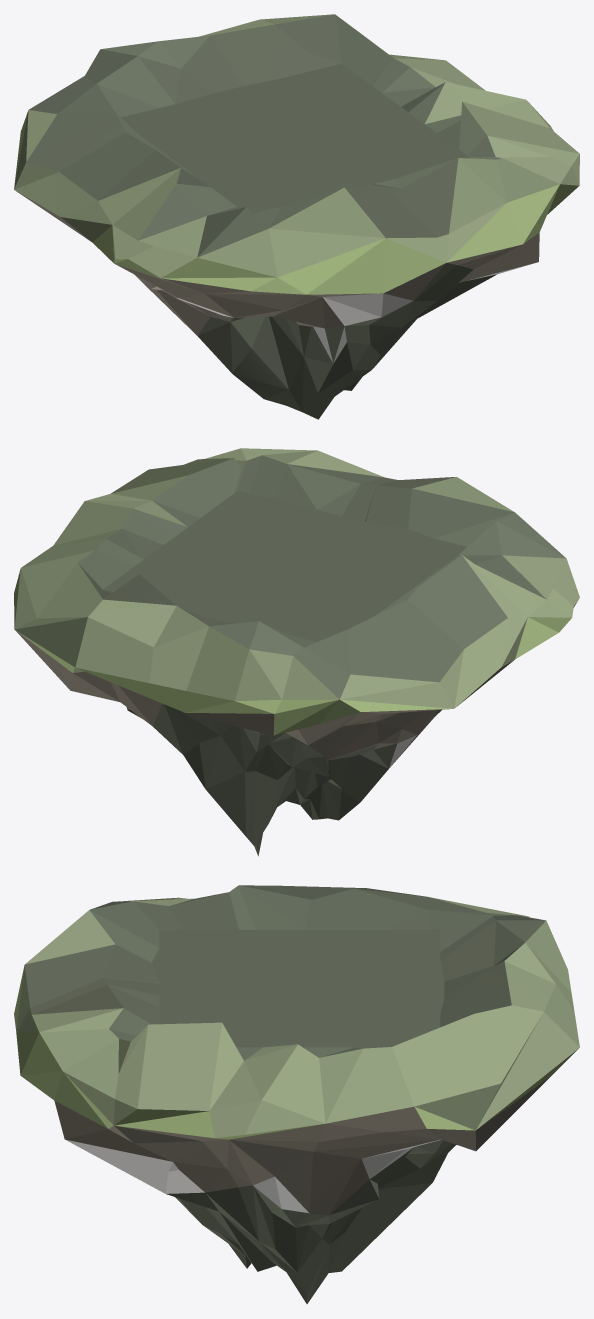
File: WithoutTile.fbx
3 views of the same model, one above another, from view 1: azimuth 30°, elevation 25°; view 2: azimuth 150°, elevation 25°; view 3: azimuth 270°, elevation 25° (orthographic). The views are drawn at different scales.
Parts seen in each view (by area): view 1: Island; view 2: Island; view 3: Island.
Part boxes in pixels (bbox=[...]): Island: bbox=[14, 14, 579, 419]; Island: bbox=[14, 448, 579, 856]; Island: bbox=[14, 885, 579, 1303].
Size of the model in its own units: 4099 by 2749 by 4089.
